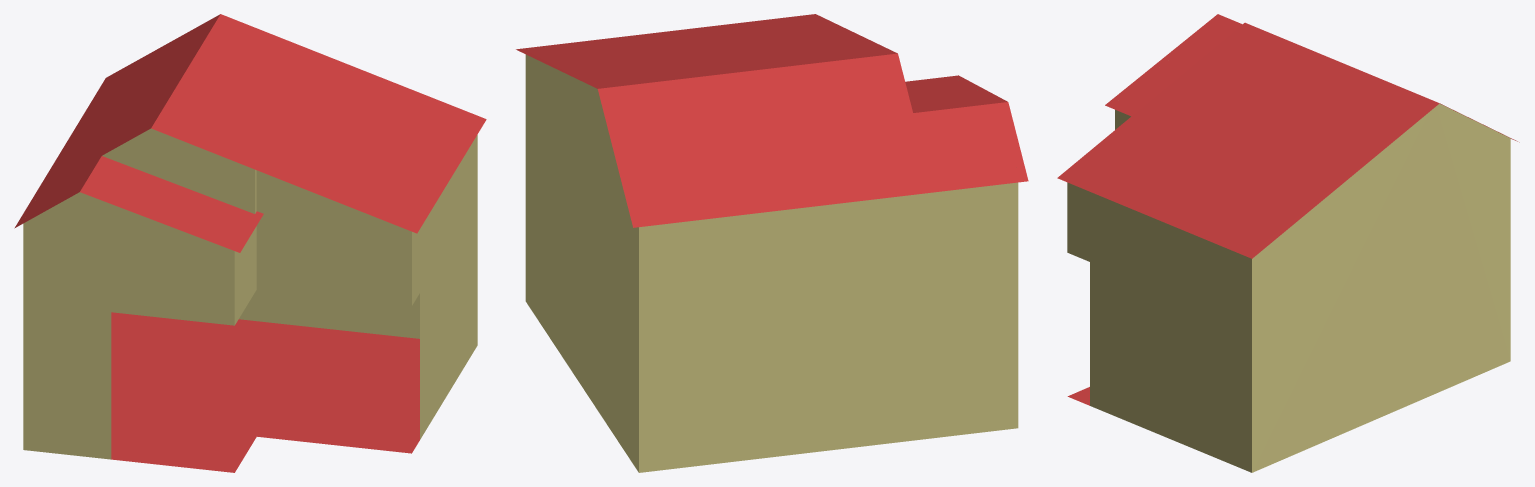
3 renders of one model, left to right at view 1: azimuth 30°, elevation 25°; view 2: azimuth 150°, elevation 25°; view 3: azimuth 270°, elevation 25°, orthographic. The views are drawn at different scales.
Size of the model in its own units: 18.18 by 16.03 by 11.18.
